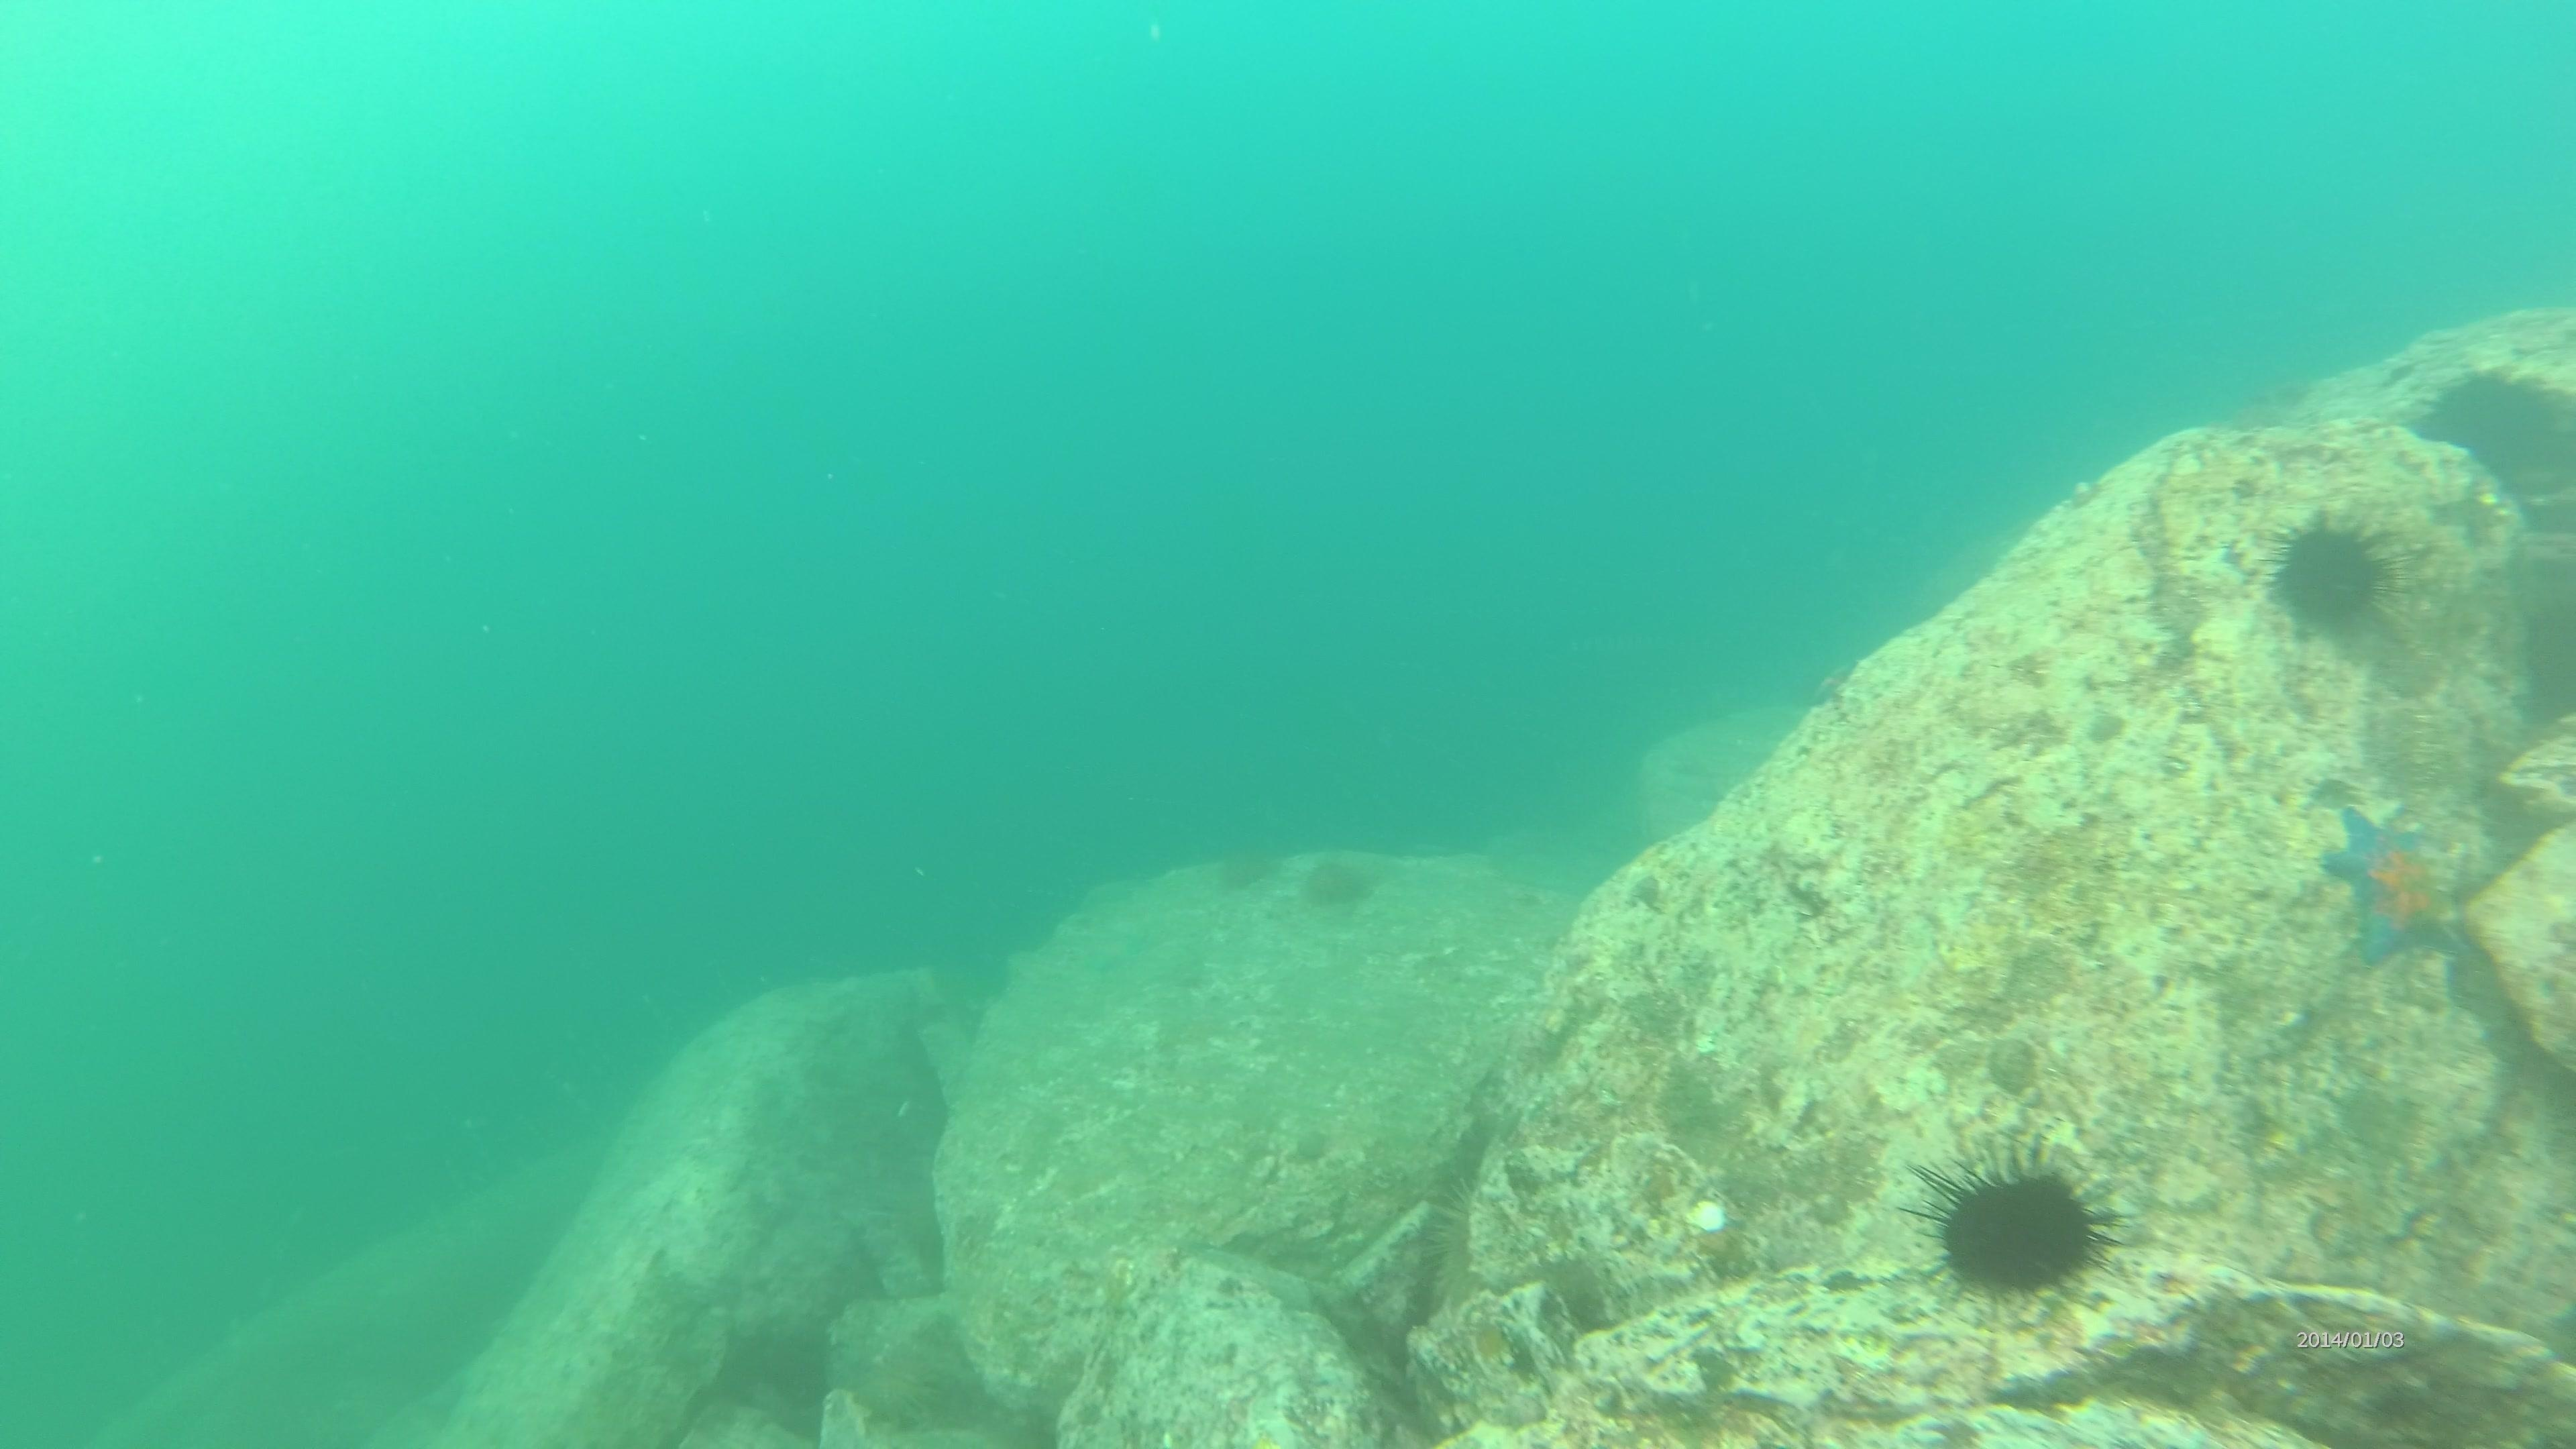echinus: (1916, 1141, 2120, 1304), (2419, 361, 2569, 492), (2265, 508, 2401, 640), (1207, 823, 1284, 895), (1299, 847, 1380, 916)
starfish: (2316, 801, 2468, 971)
